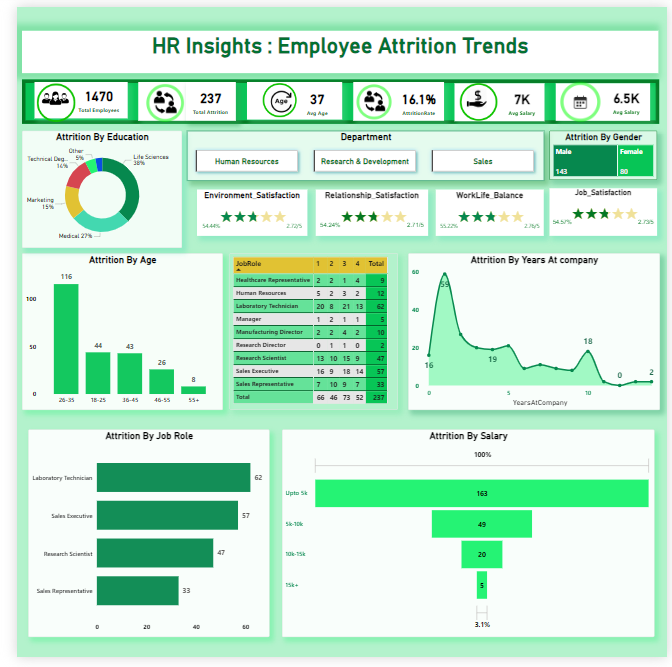

What the dashboard file says about the page in this screenshot:
{"tool":"powerbi","page":{"name":"Page 2","canvas":[1300,1300],"ordinal":0},"visuals":[{"type":"shape","box":[10,144.3,1274.3,88.6],"z":0},{"type":"shape","box":[460,150,190,75],"z":0,"group":"g1"},{"type":"textbox","box":[10,47.5,1272.5,85],"z":1000},{"type":"advancedSlicerVisual","fields":{"Values":["HR_Analytics.Department"]},"box":[339.7,247.1,714.7,100],"z":2000},{"type":"shape","box":[1076.2,151.2,188.8,75],"z":3000},{"type":"shape","box":[34.1,150.9,186.2,72.5],"z":4000,"group":"g2"},{"type":"shape","box":[875,151.2,180,76.2],"z":4000},{"type":"shape","box":[671.2,150,181.2,77.5],"z":5000},{"type":"shape","box":[242.5,150,195,77.5],"z":6000},{"type":"group","id":"g1","title":"Group 1","box":[460,150,190,75],"z":7000},{"type":"group","id":"g2","title":"Group 2","box":[34.1,150.9,186.2,72.5],"z":8000},{"type":"columnChart","title":"Attrition By Age","fields":{"Category":["HR_Analytics.AgeGroup"],"Y":["Sum(HR_Analytics.Attrition_Count)"]},"box":[10,491.7,401.7,313.3],"z":9000},{"type":"treemap","title":"Attrition By Gender","fields":{"Group":["HR_Analytics.Gender"],"Values":["Sum(HR_Analytics.Attrition_Count)"]},"box":[1065,248.3,215,98.3],"z":10000},{"type":"donutChart","title":"Attrition By Education","fields":{"Category":["HR_Analytics.EducationField"],"Y":["Sum(HR_Analytics.Attrition_Count)"]},"box":[9.5,247.6,320.2,234.5],"z":11000},{"type":"ratingsvisual001","title":"Environment_Satisfaction","fields":{"measure":["Avg(HR_Analytics.EnvironmentSatisfaction)"]},"box":[358.8,366.2,220.6,92.6],"z":12000},{"type":"ratingsvisual001","title":"Relationship_Satisfaction","fields":{"measure":["Avg(HR_Analytics.RelationshipSatisfaction)"]},"box":[597.1,366.2,225,92.6],"z":13000},{"type":"ratingsvisual001","title":"WorkLife_Balance","fields":{"measure":["Avg(HR_Analytics.WorkLifeBalance)"]},"box":[838.2,366.2,216.2,92.6],"z":14000},{"type":"ratingsvisual001","title":"Job_Satisfaction","fields":{"measure":["Avg(HR_Analytics.JobSatisfaction)"]},"box":[1065,362.5,215,95],"z":15000},{"type":"pivotTable","fields":{"Rows":["HR_Analytics.JobRole"],"Columns":["HR_Analytics.JobSatisfaction"],"Values":["Sum(HR_Analytics.Attrition_Count)"]},"box":[425,491.7,336.9,313.1],"z":16000},{"type":"card","title":"Attrition","fields":{"Values":["Sum(HR_Analytics.Attrition_Count)"]},"box":[337.5,150,100,77.5],"z":17000},{"type":"areaChart","title":"Attrition By Years At company","fields":{"Category":["HR_Analytics.YearsAtCompany"],"Y":["Sum(HR_Analytics.Attrition_Count)"]},"box":[781.7,491.7,503.3,313.3],"z":18000},{"type":"image","box":[42.5,137.5,68.8,90],"z":19000},{"type":"funnel","title":"Attrition By Salary ","fields":{"Category":["HR_Analytics.SalarySlab"],"Y":["Sum(HR_Analytics.Attrition_Count)"]},"box":[530,845,745,415],"z":20000},{"type":"barChart","title":"Attrition By Job Role","fields":{"Category":["HR_Analytics.JobRole"],"Y":["Sum(HR_Analytics.Attrition_Count)"]},"box":[22.5,845,482.5,415],"z":21000},{"type":"image","box":[263.8,161.2,63.8,55],"z":22000},{"type":"image","box":[688.8,162.5,51.2,51.2],"z":23000},{"type":"image","box":[1088.8,158.8,73.8,61.2],"z":24000},{"type":"card","title":"Total Employees","fields":{"Values":["CountNonNull(HR_Analytics.EmpID)"]},"box":[113.8,143.8,97.5,80],"z":25000},{"type":"image","box":[895,152.5,48.8,61.2],"z":26000},{"type":"image","box":[33.8,146.2,86.2,87.5],"z":27000},{"type":"image","box":[485,147.5,80,77.5],"z":28000},{"type":"image","box":[878.8,147.5,86.2,85],"z":29000},{"type":"image","box":[238.8,146.2,112.5,88.8],"z":30000},{"type":"image","box":[671.2,143.8,83.8,90],"z":31000},{"type":"image","box":[1078.8,132.5,93.8,115],"z":32000},{"type":"image","box":[498.8,162.5,56.2,53.8],"z":33000},{"type":"card","title":"Avg Age","fields":{"Values":["Avg(HR_Analytics.Age)"]},"box":[565,151.2,71.2,75],"z":34000},{"type":"card","title":"Attrition Rate","fields":{"Values":["HR_Analytics.AttritionCount"]},"box":[755,150,97.5,82.5],"z":35000},{"type":"card","title":"Avg Salary","fields":{"Values":["Avg(HR_Analytics.MonthlyIncome)"]},"box":[965,150,90,80],"z":36000},{"type":"card","title":"Avg Salary","fields":{"Values":["Avg(HR_Analytics.MonthlyIncome)"]},"box":[1172.5,146.2,92.5,81.2],"z":37000}]}

Visuals, with their boxes in screenshot pixels (x1, y1, x2, y2), scaled from the page's 1300x1300 canvas onto the 672x667 screenshot:
shape: x1=5, y1=74, x2=664, y2=119
shape: x1=238, y1=77, x2=336, y2=115
textbox: x1=5, y1=24, x2=663, y2=68
advancedSlicerVisual - HR_Analytics.Department: x1=176, y1=127, x2=545, y2=178
shape: x1=556, y1=78, x2=654, y2=116
shape: x1=18, y1=77, x2=114, y2=115
shape: x1=452, y1=78, x2=545, y2=117
shape: x1=347, y1=77, x2=441, y2=117
shape: x1=125, y1=77, x2=226, y2=117
"Group 1" group: x1=238, y1=77, x2=336, y2=115
"Group 2" group: x1=18, y1=77, x2=114, y2=115
"Attrition By Age" columnChart: x1=5, y1=252, x2=213, y2=413
"Attrition By Gender" treemap: x1=551, y1=127, x2=662, y2=178
"Attrition By Education" donutChart: x1=5, y1=127, x2=170, y2=247
"Environment_Satisfaction" ratingsvisual001: x1=185, y1=188, x2=300, y2=235
"Relationship_Satisfaction" ratingsvisual001: x1=309, y1=188, x2=425, y2=235
"WorkLife_Balance" ratingsvisual001: x1=433, y1=188, x2=545, y2=235
"Job_Satisfaction" ratingsvisual001: x1=551, y1=186, x2=662, y2=235
pivotTable - HR_Analytics.JobRole x HR_Analytics.JobSatisfaction: x1=220, y1=252, x2=394, y2=413
"Attrition" card: x1=174, y1=77, x2=226, y2=117
"Attrition By Years At company" areaChart: x1=404, y1=252, x2=664, y2=413
image: x1=22, y1=71, x2=58, y2=117
"Attrition By Salary " funnel: x1=274, y1=434, x2=659, y2=646
"Attrition By Job Role" barChart: x1=12, y1=434, x2=261, y2=646
image: x1=136, y1=83, x2=169, y2=111
image: x1=356, y1=83, x2=383, y2=110
image: x1=563, y1=81, x2=601, y2=113
"Total Employees" card: x1=59, y1=74, x2=109, y2=115
image: x1=463, y1=78, x2=488, y2=110
image: x1=17, y1=75, x2=62, y2=120
image: x1=251, y1=76, x2=292, y2=115
image: x1=454, y1=76, x2=499, y2=119
image: x1=123, y1=75, x2=182, y2=121
image: x1=347, y1=74, x2=390, y2=120
image: x1=558, y1=68, x2=606, y2=127
image: x1=258, y1=83, x2=287, y2=111
"Avg Age" card: x1=292, y1=78, x2=329, y2=116
"Attrition Rate" card: x1=390, y1=77, x2=441, y2=119
"Avg Salary" card: x1=499, y1=77, x2=545, y2=118
"Avg Salary" card: x1=606, y1=75, x2=654, y2=117
